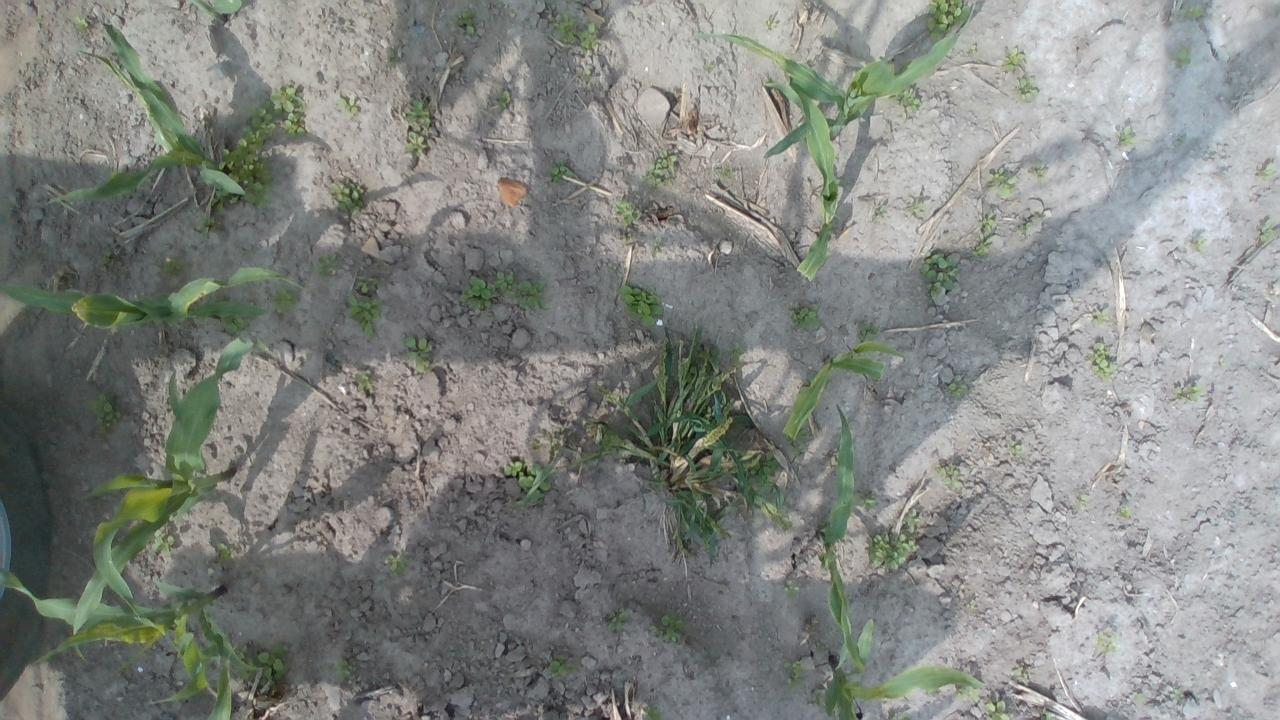Maize: (67, 336, 275, 658), (727, 0, 976, 158), (44, 22, 246, 206), (0, 570, 263, 707), (0, 264, 304, 329), (761, 79, 848, 284), (820, 618, 984, 720), (781, 339, 909, 442), (818, 402, 867, 671), (200, 656, 237, 720), (188, 0, 248, 23)
Weeds: (516, 326, 800, 566), (215, 84, 306, 208), (458, 270, 552, 312), (235, 640, 292, 698), (864, 530, 919, 574), (918, 250, 962, 298), (552, 11, 600, 54), (925, 0, 971, 44), (618, 282, 662, 326), (344, 294, 386, 340), (642, 148, 679, 190), (398, 332, 434, 373), (649, 610, 689, 644), (1084, 342, 1118, 382), (90, 393, 122, 435), (328, 179, 364, 216), (986, 166, 1020, 199), (892, 85, 922, 122), (269, 283, 302, 316), (216, 310, 256, 336), (311, 253, 345, 282), (788, 302, 822, 330), (545, 156, 576, 186), (160, 250, 192, 278), (548, 650, 578, 679), (385, 552, 418, 578), (406, 97, 430, 131), (934, 462, 964, 489), (614, 199, 641, 229), (452, 8, 478, 38), (782, 658, 804, 693), (606, 606, 632, 634), (788, 428, 812, 458), (152, 528, 176, 558), (1014, 74, 1040, 100), (404, 131, 428, 159), (97, 246, 122, 272), (945, 373, 969, 400), (332, 658, 356, 684), (352, 274, 383, 294), (195, 210, 215, 240), (1004, 46, 1026, 73), (1096, 630, 1120, 654), (353, 368, 374, 395), (1175, 382, 1203, 402), (972, 234, 994, 259), (1116, 124, 1137, 150), (854, 490, 878, 512), (854, 320, 879, 341), (902, 507, 921, 534), (985, 699, 1009, 720), (956, 682, 980, 702), (1010, 664, 1034, 684), (977, 210, 997, 234), (908, 197, 928, 221), (1179, 6, 1203, 26), (1171, 47, 1192, 69), (336, 94, 358, 115), (1030, 160, 1048, 185), (504, 460, 526, 480), (808, 684, 826, 708), (1259, 219, 1277, 243), (782, 579, 802, 600), (218, 543, 240, 562), (1190, 236, 1209, 254), (641, 704, 662, 720), (496, 88, 511, 110), (1092, 307, 1110, 325), (1260, 161, 1276, 181), (872, 203, 888, 221), (168, 508, 188, 522), (1074, 493, 1090, 510), (651, 236, 664, 256), (73, 16, 89, 32), (1116, 504, 1132, 519), (1009, 441, 1025, 456), (802, 370, 817, 386), (1132, 690, 1149, 704), (888, 710, 911, 720), (1016, 221, 1032, 234), (1040, 708, 1057, 720), (764, 14, 776, 30), (816, 552, 826, 570), (1170, 688, 1182, 700), (702, 61, 715, 72), (386, 50, 396, 63), (584, 68, 592, 82), (816, 640, 826, 651), (966, 600, 977, 610), (608, 262, 618, 272), (816, 521, 828, 529), (969, 44, 977, 55), (1219, 358, 1228, 366)
